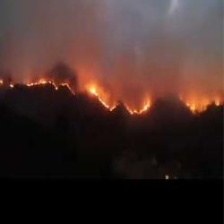fire: (4, 63, 224, 128)
